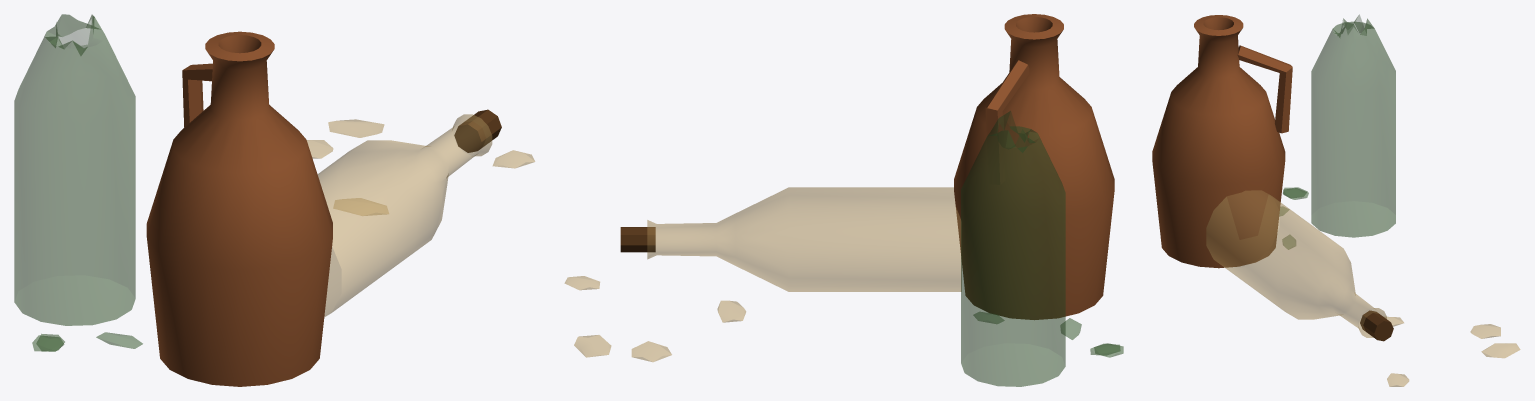
Rendered from flaschen_kaputt.glb.
3 renders of one model, left to right at view 1: azimuth 30°, elevation 25°; view 2: azimuth 150°, elevation 25°; view 3: azimuth 270°, elevation 25°, orthographic. The views are drawn at different scales.
Visible parts, largest first — view 1: flaschen_kaputt; view 2: flaschen_kaputt; view 3: flaschen_kaputt.
Boxes of the visible parts, x1=… form: flaschen_kaputt: x1=14, y1=14, x2=534, y2=386; flaschen_kaputt: x1=564, y1=14, x2=1123, y2=386; flaschen_kaputt: x1=1152, y1=14, x2=1520, y2=386.
Size of the model in its own units: 0.4882 by 0.2525 by 0.3821.
